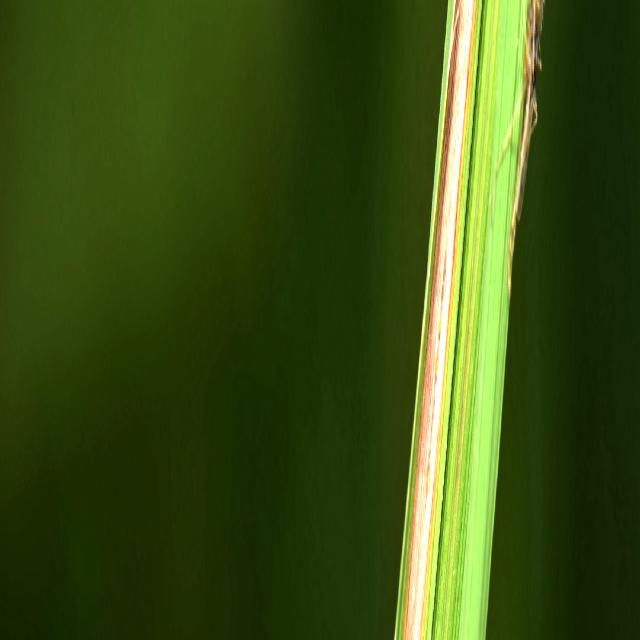BLB: (402, 1, 477, 640)
